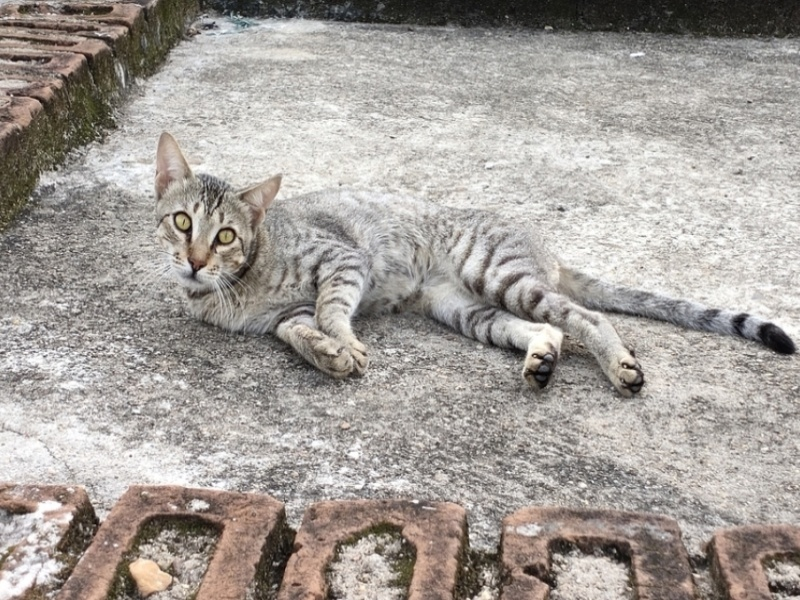cat: (153, 130, 798, 400)
